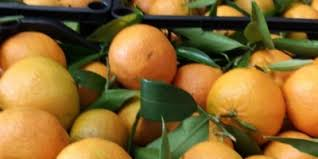orange: (207, 64, 286, 140), (1, 54, 77, 126), (102, 23, 178, 92), (1, 106, 68, 159), (71, 106, 128, 145)
